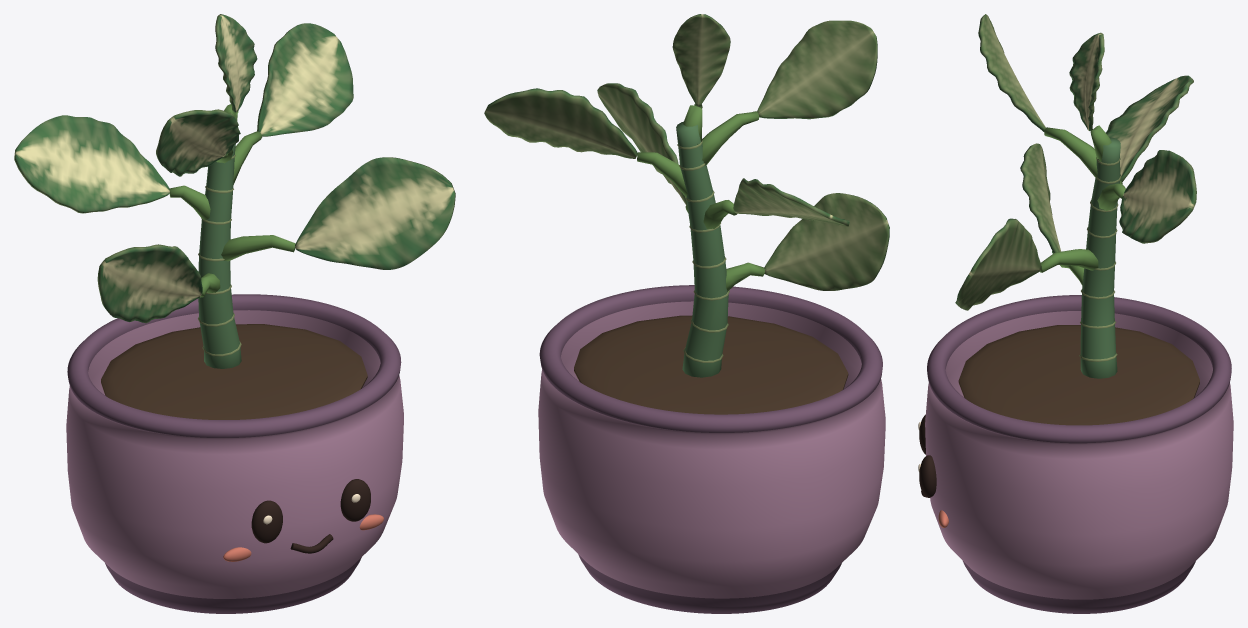
File: dieffenbachia-v1.glb
The picture shows the model from 3 angles, left to right: view 1: azimuth 30°, elevation 25°; view 2: azimuth 150°, elevation 25°; view 3: azimuth 270°, elevation 25°; orthographic projection. The views are drawn at different scales.
Visible parts, largest first — view 1: Wheel-thrown ceramic, Foliage draw mesh, Soil, Eye, Eye.001; view 2: Wheel-thrown ceramic, Foliage draw mesh, Soil; view 3: Wheel-thrown ceramic, Foliage draw mesh, Soil, Eye.001.
Boxes of the visible parts, x1,y1,x2,y2 form: Wheel-thrown ceramic: (66,294,403,613); Foliage draw mesh: (14,14,455,368); Soil: (101,324,367,419); Eye: (251,500,282,543); Eye.001: (340,479,370,521); Wheel-thrown ceramic: (538,285,885,613); Foliage draw mesh: (484,14,889,377); Soil: (574,315,848,414); Wheel-thrown ceramic: (925,295,1233,613); Foliage draw mesh: (955,14,1196,378); Soil: (958,325,1199,425); Eye.001: (919,455,936,497).
Bounding box in the file's own units: 1.83 × 2.84 × 1.53.
